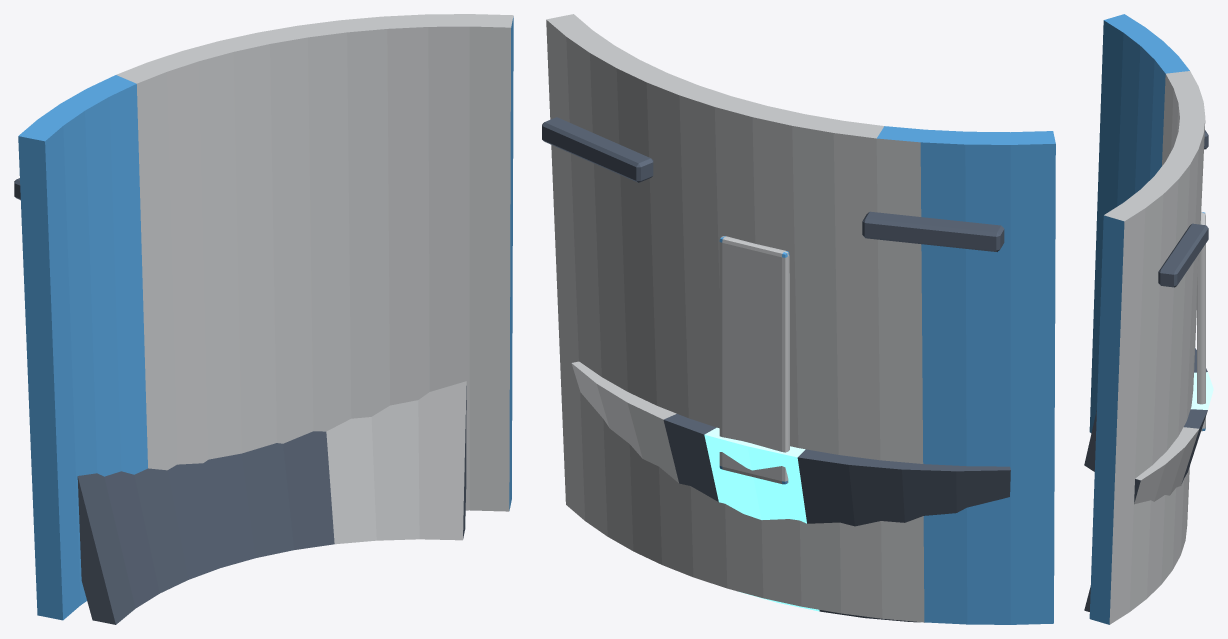
File: back__base.glb
The picture shows the model from 3 angles, left to right: view 1: azimuth 30°, elevation 25°; view 2: azimuth 150°, elevation 25°; view 3: azimuth 270°, elevation 25°; orthographic projection. The views are drawn at different scales.
Parts seen in each view (by area): view 1: armor_back__base_v001; view 2: armor_back__base_v001; view 3: armor_back__base_v001.
Part boxes in pixels (x1,y1,x2,y2): armor_back__base_v001: (14, 14, 513, 624); armor_back__base_v001: (542, 14, 1055, 624); armor_back__base_v001: (1084, 14, 1213, 624).
Size of the model in its own units: 0.5452 by 0.515 by 0.144.
